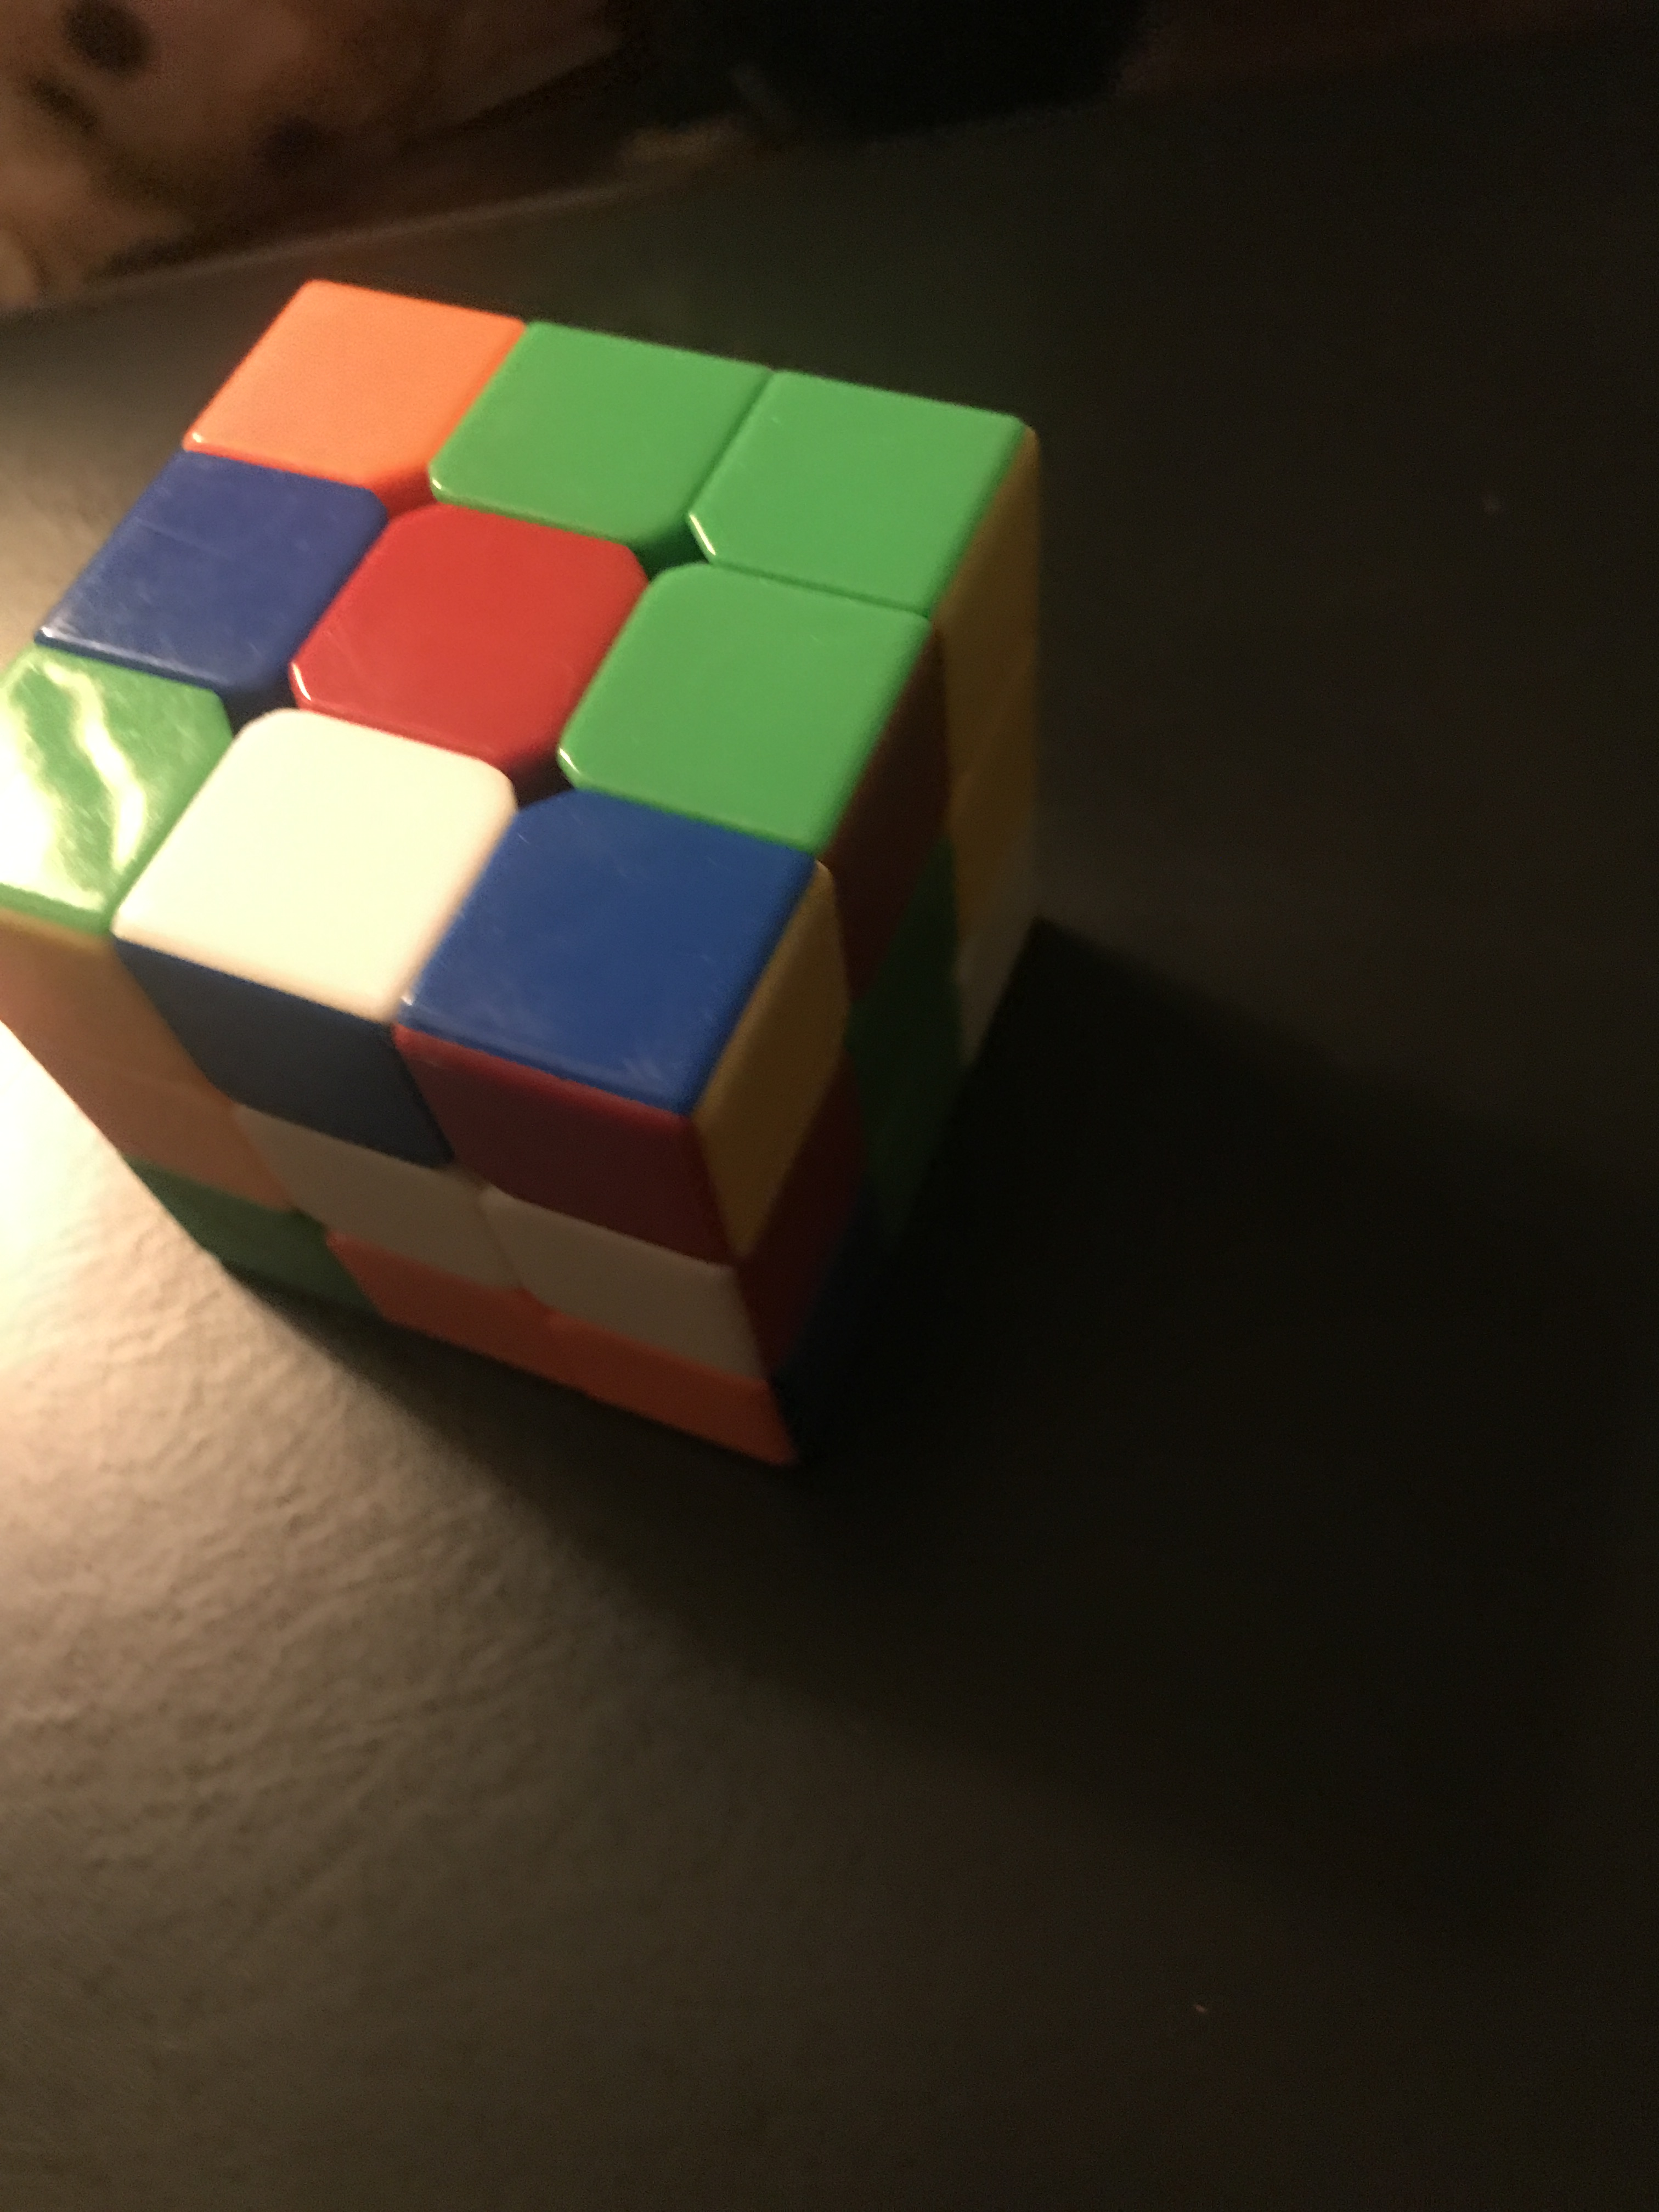rubiks: (10, 275, 1047, 1468)
